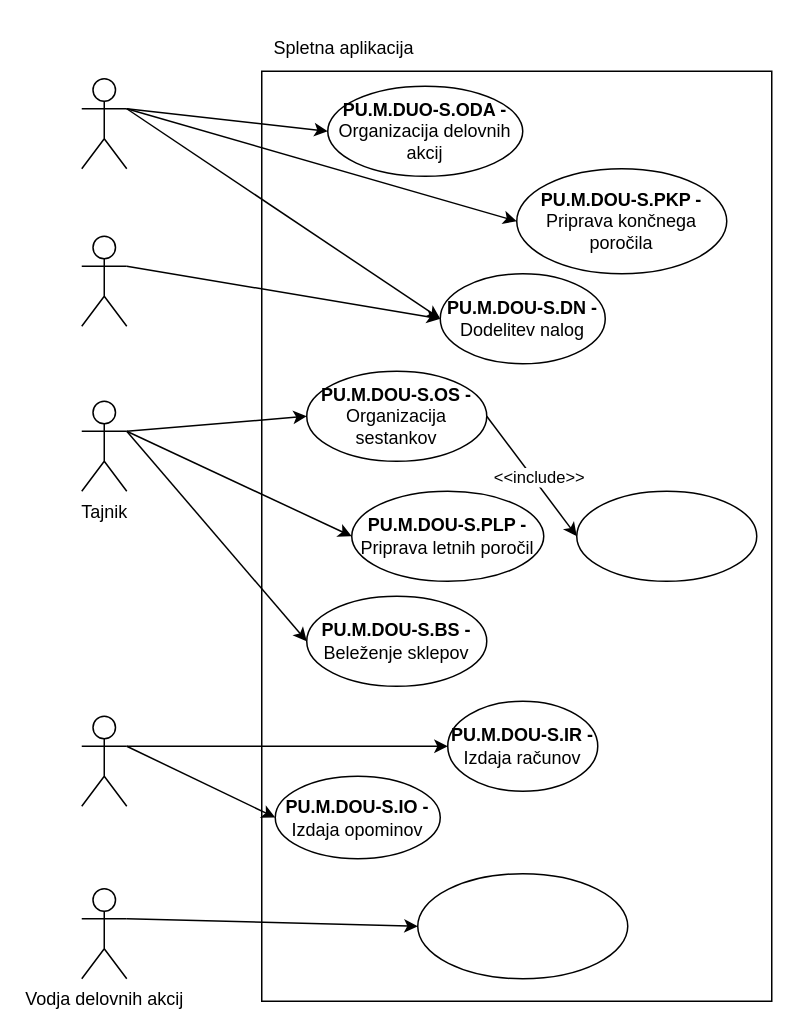
Image size: 798x1035. Some labels were removed from this diagram. Each missing label, with the centre of its shape:
"Blagajnik" goes at (103,760).
"Gospodar" goes at (103,123).
"PU.M.DOU-S.POP - Priprava osnovnega poročila" goes at (522,925).
"PU.TM.OBV.PO - Pošiljanje obvestil" goes at (666,535).
"Starešina" goes at (103,280).
